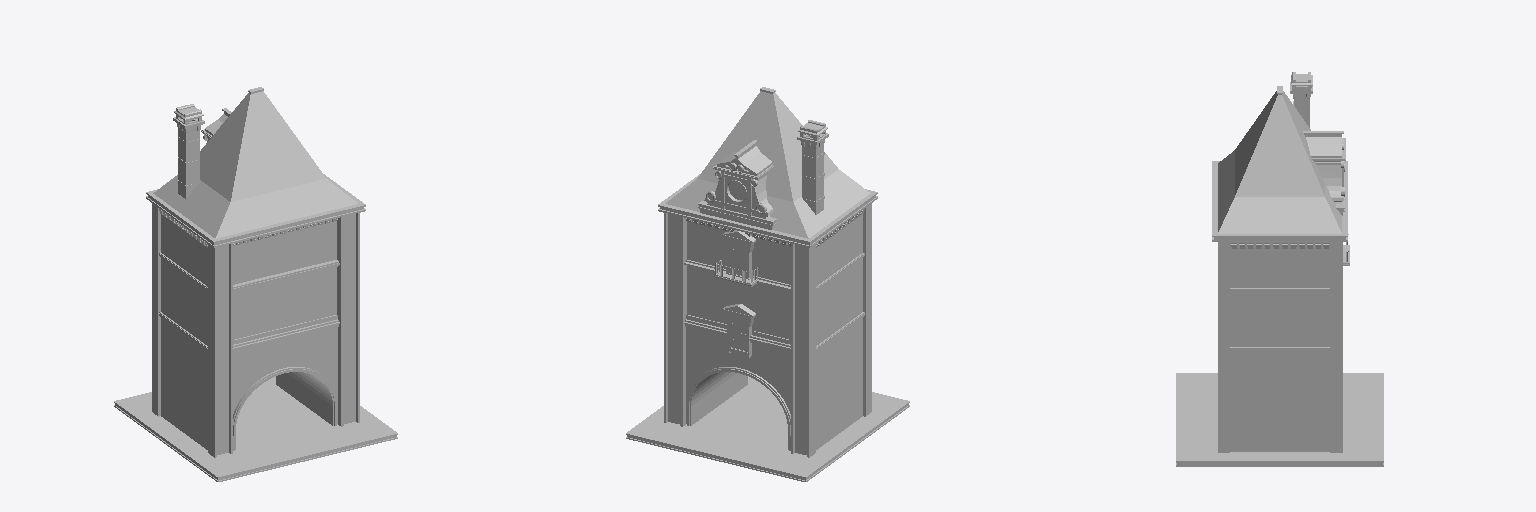
The model's file is building.obj.
3 renders of one model, left to right at view 1: azimuth 30°, elevation 25°; view 2: azimuth 150°, elevation 25°; view 3: azimuth 270°, elevation 25°, orthographic.
Parts seen in each view (by area): view 1: structure_Malla.001, up_Malla.002, floor_Malla, hole_Malla.008, chimney_Malla.007, det1_Malla.010; view 2: structure_Malla.001, up_Malla.002, floor_Malla, hole_Malla.008, clock_Malla.003, chimney_Malla.007, chateau:win1_Malla.006, chateau:win_Malla.004, det1_Malla.010; view 3: structure_Malla.001, up_Malla.002, floor_Malla, clock_Malla.003, det1_Malla.010, chimney_Malla.007.
Part boxes in pixels (left/top/right/bottom): structure_Malla.001: left=152, top=203, right=359, bottom=457; up_Malla.002: left=146, top=87, right=365, bottom=247; floor_Malla: left=114, top=376, right=397, bottom=481; hole_Malla.008: left=233, top=315, right=338, bottom=450; chimney_Malla.007: left=173, top=104, right=204, bottom=198; det1_Malla.010: left=159, top=252, right=339, bottom=350; structure_Malla.001: left=664, top=203, right=871, bottom=457; up_Malla.002: left=658, top=87, right=877, bottom=247; floor_Malla: left=626, top=376, right=909, bottom=481; hole_Malla.008: left=685, top=315, right=790, bottom=450; clock_Malla.003: left=698, top=140, right=776, bottom=229; chimney_Malla.007: left=797, top=120, right=828, bottom=214; chateau:win1_Malla.006: left=722, top=304, right=755, bottom=359; chateau:win_Malla.004: left=723, top=230, right=755, bottom=279; det1_Malla.010: left=684, top=253, right=864, bottom=350; structure_Malla.001: left=1218, top=242, right=1342, bottom=452; up_Malla.002: left=1212, top=86, right=1347, bottom=241; floor_Malla: left=1176, top=373, right=1383, bottom=466; clock_Malla.003: left=1303, top=131, right=1345, bottom=215; det1_Malla.010: left=1230, top=288, right=1329, bottom=351; chimney_Malla.007: left=1290, top=72, right=1312, bottom=127.
Size of the model in its own units: 0.0395 by 0.0696 by 0.0395.